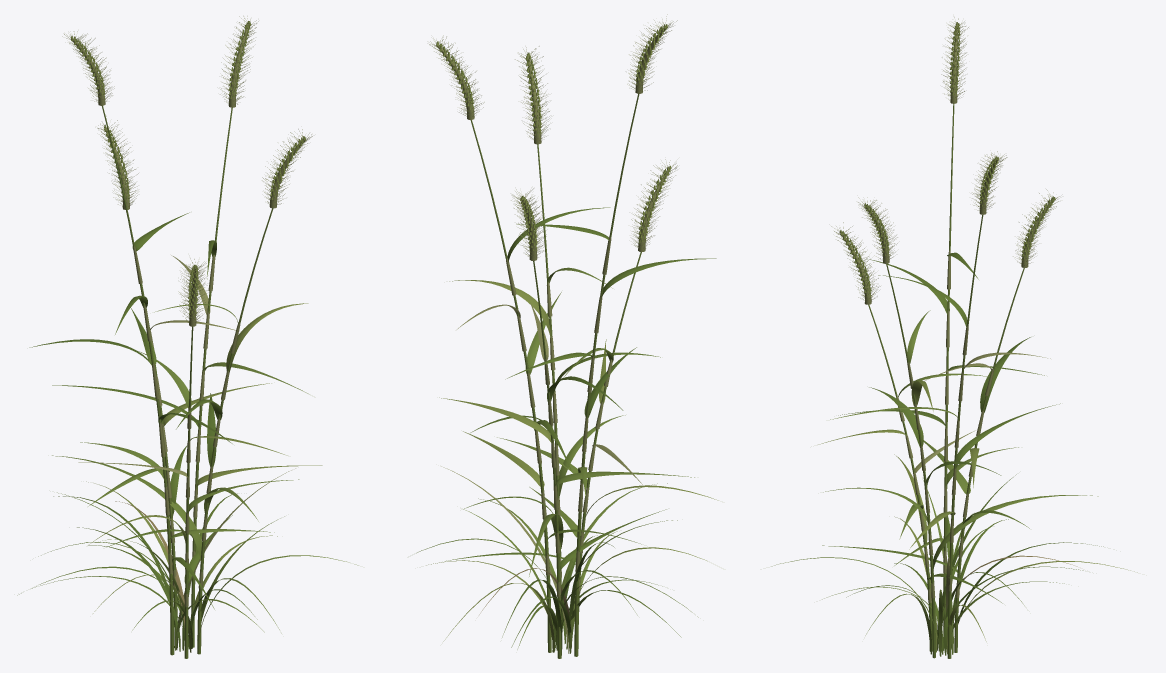
The picture shows the model from 3 angles, left to right: view 1: azimuth 30°, elevation 25°; view 2: azimuth 150°, elevation 25°; view 3: azimuth 270°, elevation 25°; orthographic projection. The views are drawn at different scales.
Parts seen in each view (by area): view 1: Culms • Leaf green, Blades • Leaf green, Blades • Leaf forest, Leaf sheaths • Leaf olive, Bristles • Leaf olive, Blades • Leaf young, Seedlets • Leaf young, Blades • Leaf shaded, Seed rachis • Leaf olive, Blades • Leaf olive; view 2: Blades • Leaf forest, Blades • Leaf green, Culms • Leaf green, Leaf sheaths • Leaf olive, Bristles • Leaf olive, Blades • Leaf young, Seedlets • Leaf young, Blades • Leaf shaded, Seed rachis • Leaf olive, Blades • Leaf olive; view 3: Blades • Leaf forest, Culms • Leaf green, Blades • Leaf green, Leaf sheaths • Leaf olive, Bristles • Leaf olive, Seedlets • Leaf young, Blades • Leaf young, Blades • Leaf shaded, Seed rachis • Leaf olive, Blades • Leaf olive.
Boxes of the visible parts, left/top/right/bottom form: Culms • Leaf green: left=102, top=105, right=273, bottom=658; Blades • Leaf green: left=52, top=304, right=358, bottom=651; Blades • Leaf forest: left=17, top=212, right=237, bottom=650; Leaf sheaths • Leaf olive: left=133, top=245, right=240, bottom=606; Bristles • Leaf olive: left=62, top=16, right=312, bottom=322; Blades • Leaf young: left=86, top=303, right=322, bottom=652; Seedlets • Leaf young: left=71, top=21, right=305, bottom=318; Blades • Leaf shaded: left=29, top=339, right=257, bottom=651; Seed rachis • Leaf olive: left=71, top=24, right=304, bottom=326; Blades • Leaf olive: left=78, top=255, right=295, bottom=649; Blades • Leaf forest: left=416, top=207, right=716, bottom=651; Blades • Leaf green: left=463, top=267, right=694, bottom=653; Culms • Leaf green: left=470, top=93, right=641, bottom=658; Leaf sheaths • Leaf olive: left=506, top=236, right=612, bottom=597; Bristles • Leaf olive: left=429, top=14, right=677, bottom=257; Blades • Leaf young: left=426, top=280, right=718, bottom=652; Seedlets • Leaf young: left=436, top=24, right=671, bottom=253; Blades • Leaf shaded: left=470, top=347, right=636, bottom=655; Seed rachis • Leaf olive: left=437, top=28, right=670, bottom=260; Blades • Leaf olive: left=441, top=302, right=642, bottom=653; Blades • Leaf forest: left=822, top=252, right=1064, bottom=655; Culms • Leaf green: left=868, top=104, right=1024, bottom=658; Blades • Leaf green: left=771, top=310, right=1098, bottom=656; Leaf sheaths • Leaf olive: left=896, top=250, right=993, bottom=602; Bristles • Leaf olive: left=831, top=17, right=1059, bottom=301; Seedlets • Leaf young: left=839, top=22, right=1055, bottom=298; Blades • Leaf young: left=818, top=380, right=1137, bottom=654; Blades • Leaf shaded: left=838, top=337, right=1103, bottom=650; Seed rachis • Leaf olive: left=842, top=24, right=1054, bottom=304; Blades • Leaf olive: left=914, top=352, right=1050, bottom=611.
Size of the model in its own units: 0.3092 by 0.6495 by 0.3958.
